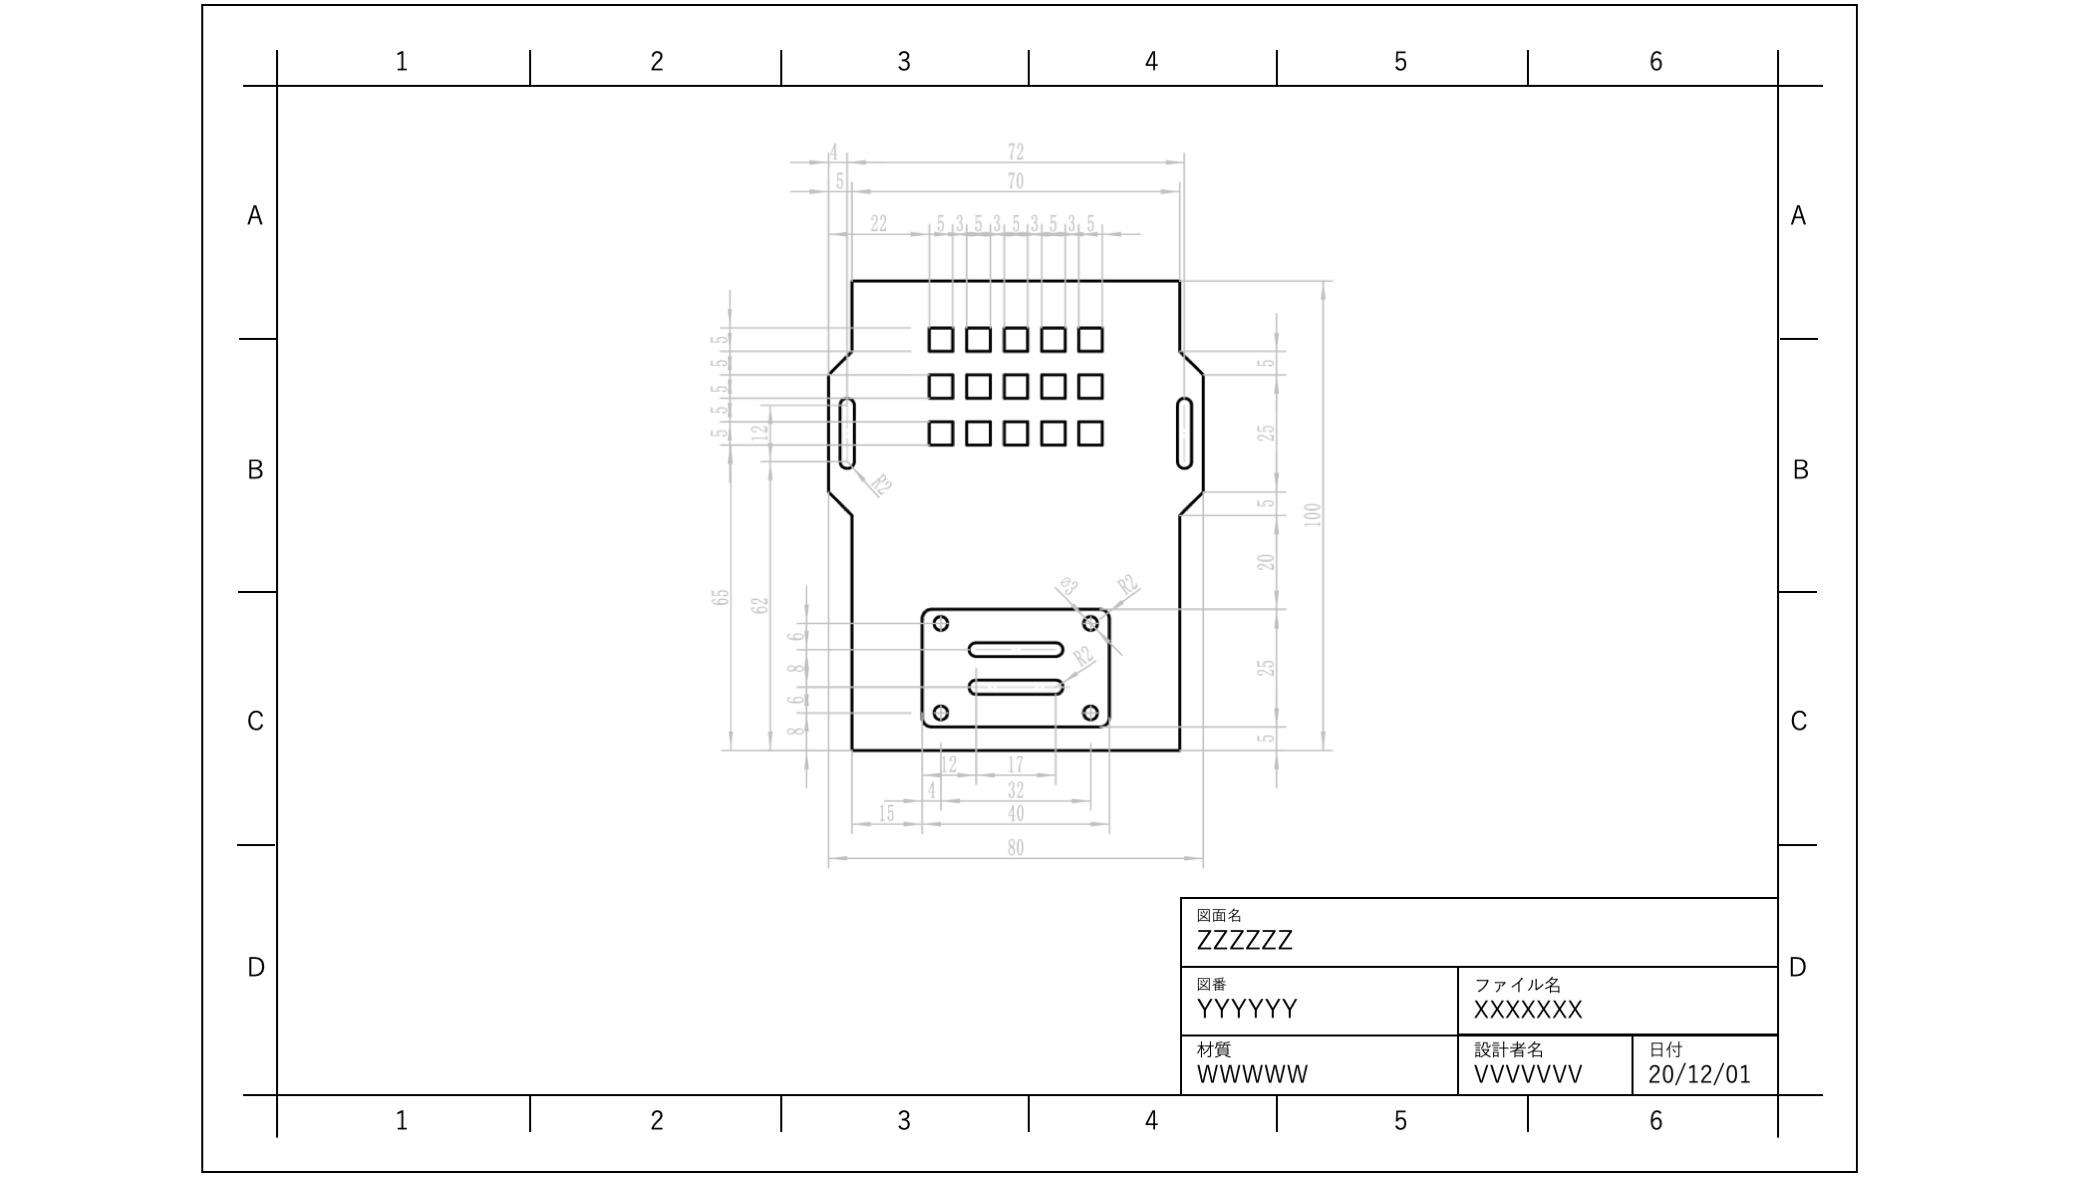circle: (930, 611, 950, 632), (1079, 611, 1099, 632), (1080, 702, 1100, 722), (929, 704, 950, 718)
rectangle: (925, 369, 956, 402), (1000, 369, 1031, 402), (925, 415, 955, 448), (962, 415, 992, 448), (925, 322, 955, 353), (1073, 323, 1103, 355), (961, 372, 992, 402), (1075, 371, 1105, 402), (1038, 369, 1067, 402), (1038, 415, 1067, 448), (1001, 323, 1031, 353), (963, 323, 992, 355), (1001, 417, 1030, 448), (1075, 418, 1103, 448), (1038, 323, 1066, 353)
round_rectangle: (966, 637, 1066, 662), (963, 675, 1067, 696), (1171, 392, 1196, 472), (837, 392, 858, 470)
